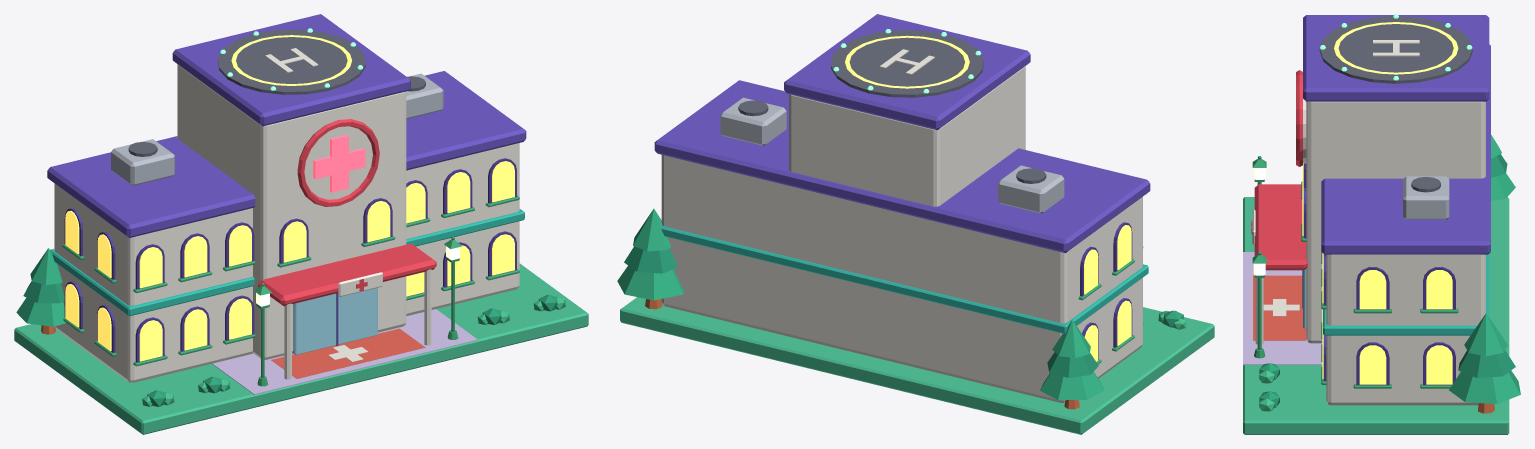
Rendered from bld_hospital.glb.
3 views of the same model, side by side, from view 1: azimuth 30°, elevation 25°; view 2: azimuth 150°, elevation 25°; view 3: azimuth 270°, elevation 25° (orthographic). The views are drawn at different scales.
Parts seen in each view (by area): view 1: bld_hospital; view 2: bld_hospital; view 3: bld_hospital.
Part boxes in pixels (<box>): bld_hospital: <box>14,14,588,434</box>; bld_hospital: <box>617,14,1214,434</box>; bld_hospital: <box>1243,14,1520,434</box>.
Size of the model in its own units: 16.43 by 9.22 by 8.35.
